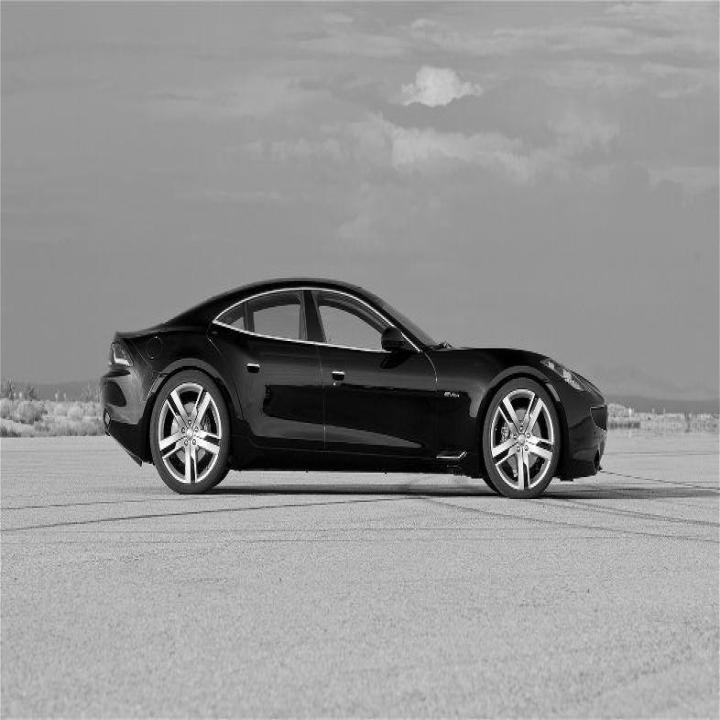car: (99, 275, 608, 499)
